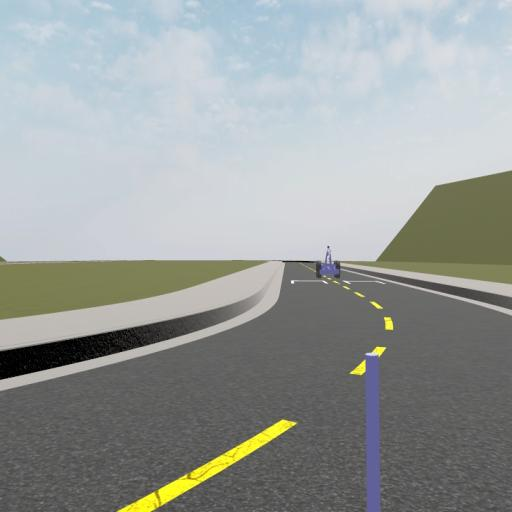ERP-42: (316, 245, 341, 279)
